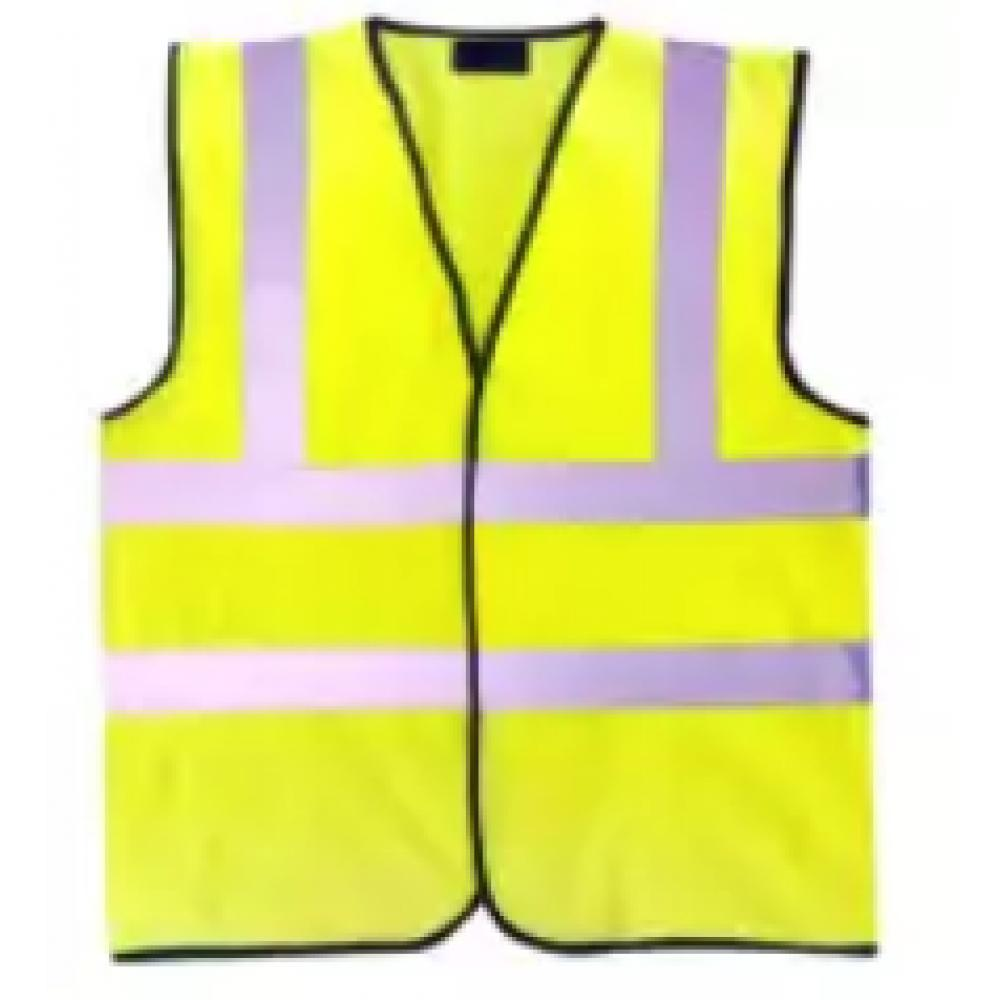vest: (97, 17, 884, 966)
